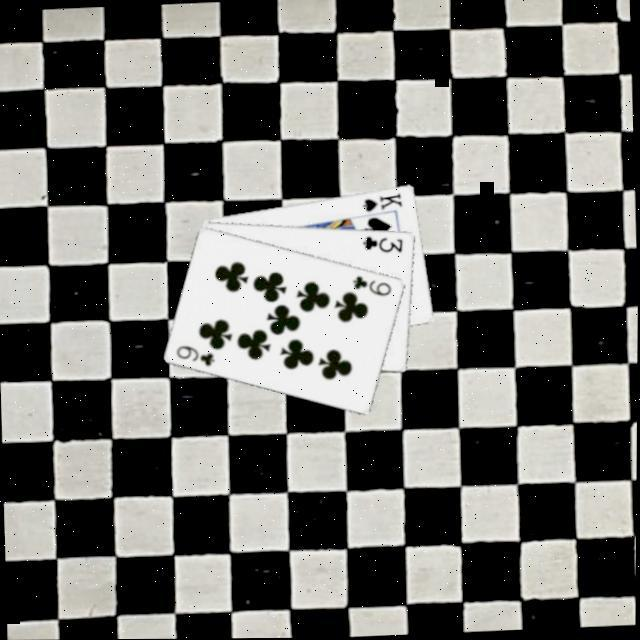3C: (360, 230, 407, 256)
9C: (349, 270, 396, 300), (174, 339, 220, 369)
KS: (360, 188, 407, 214)
